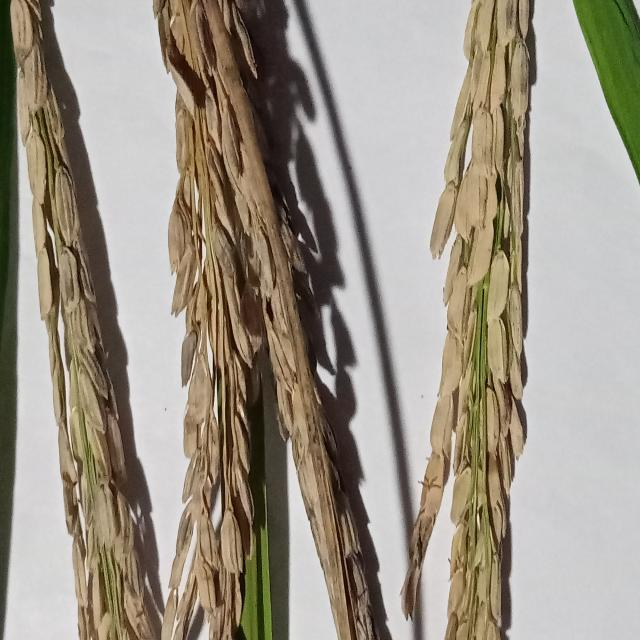Neck_Blast: (144, 0, 388, 640), (3, 0, 180, 640), (400, 0, 541, 639)
